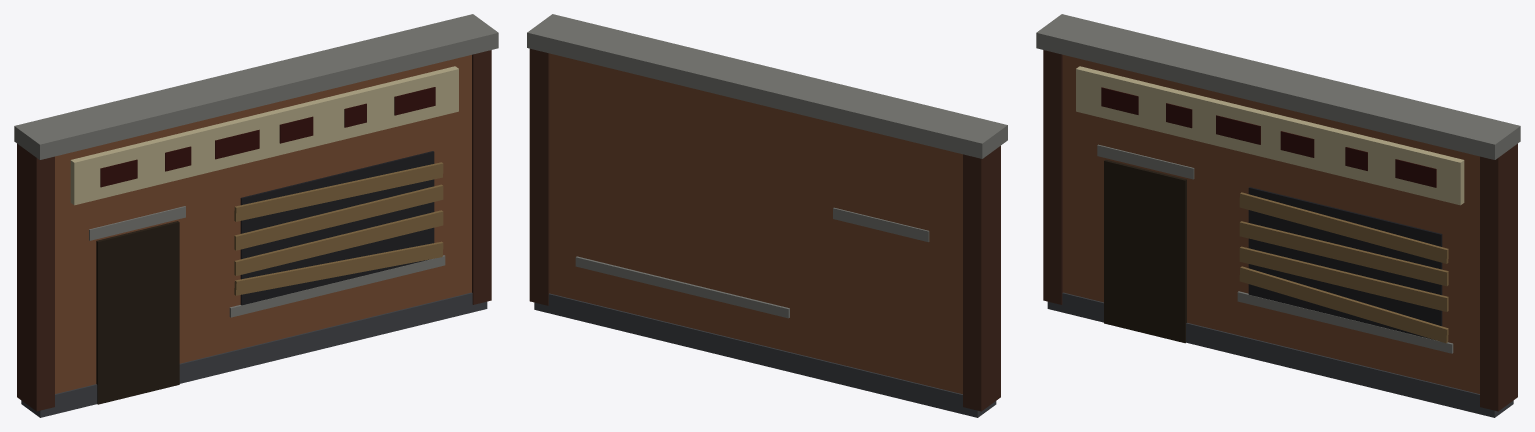
The model's file is wall_shopfront.glb.
3 renders of one model, left to right at view 1: azimuth 30°, elevation 25°; view 2: azimuth 150°, elevation 25°; view 3: azimuth 330°, elevation 25°, orthographic.
Visible parts, largest first — view 1: wall_shopfront; view 2: wall_shopfront; view 3: wall_shopfront.
Part boxes in pixels (box(x1,y1,x2,y2)): wall_shopfront: box(14, 14, 498, 417); wall_shopfront: box(527, 14, 1007, 417); wall_shopfront: box(1036, 14, 1520, 417).
Size of the model in its own units: 6.2 by 3.6 by 0.6.
